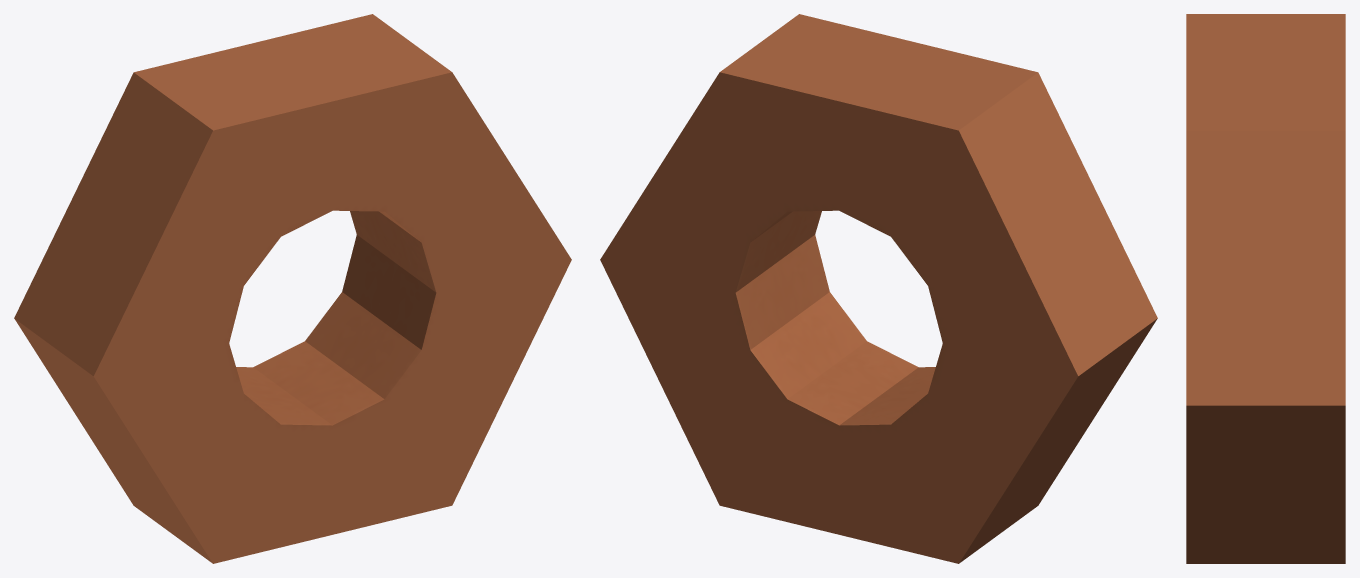
File: nut.dae
The picture shows the model from 3 angles, left to right: view 1: azimuth 30°, elevation 25°; view 2: azimuth 150°, elevation 25°; view 3: azimuth 270°, elevation 25°; orthographic projection.
Visible parts, largest first — view 1: Circle; view 2: Circle; view 3: Circle.
Part boxes in pixels (x1=…): Circle: x1=14, y1=14, x2=571, y2=563; Circle: x1=600, y1=14, x2=1157, y2=563; Circle: x1=1186, y1=14, x2=1345, y2=563.
Bounding box in the file's own units: 0.0641 × 0.0185 × 0.0555.
Materials: 1 (1 with a texture image).
